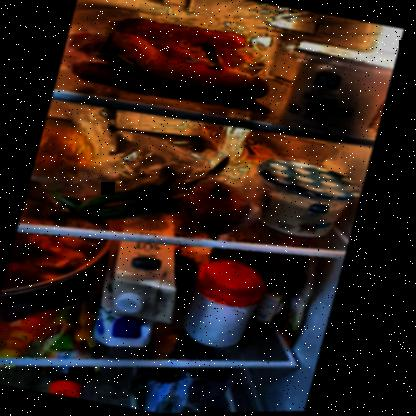broccoli: (130, 366, 259, 413)
carrot: (64, 8, 283, 117)
green_chillies: (52, 172, 177, 228)
lemon: (34, 123, 102, 181)
milk: (95, 242, 192, 355)
tomato: (184, 176, 261, 235)
yoghurt: (278, 39, 397, 136), (250, 156, 369, 244)
